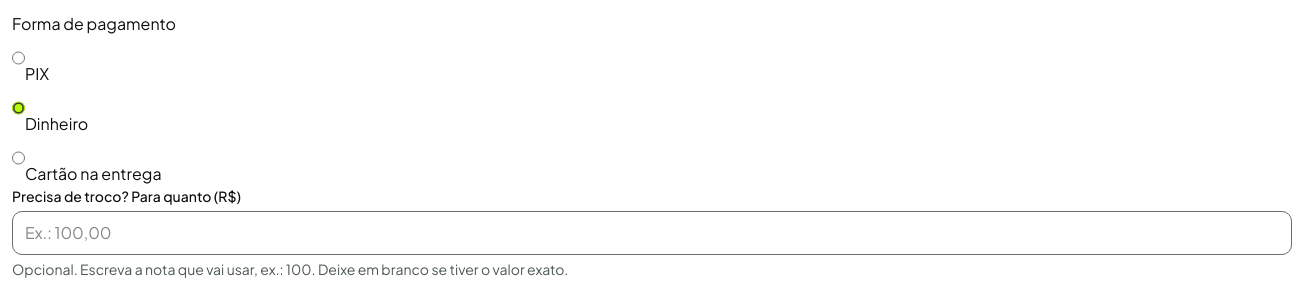
Test case: escolha da forma de pagamento (AC-512) › @spec:AC-512 sair do dinheiro esconde o campo de troco de novo
Click the radio button labelled "PIX". click: click(18, 58)
box: left=12, top=36, right=25, bottom=80
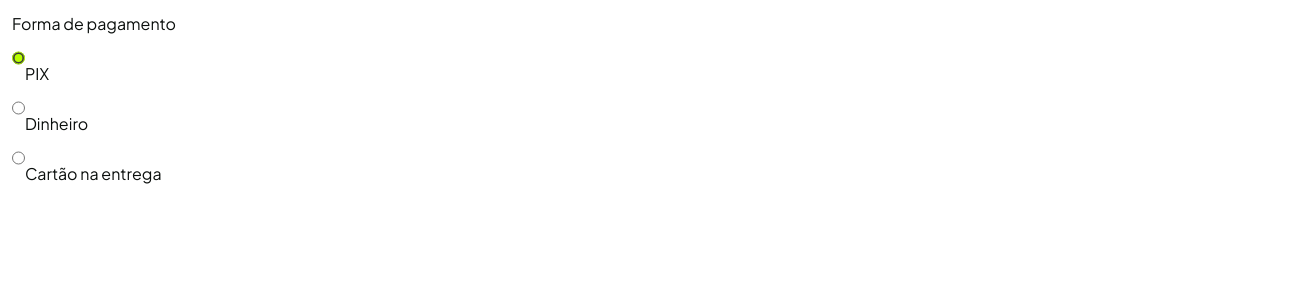
Result: the text "troco" is gone
